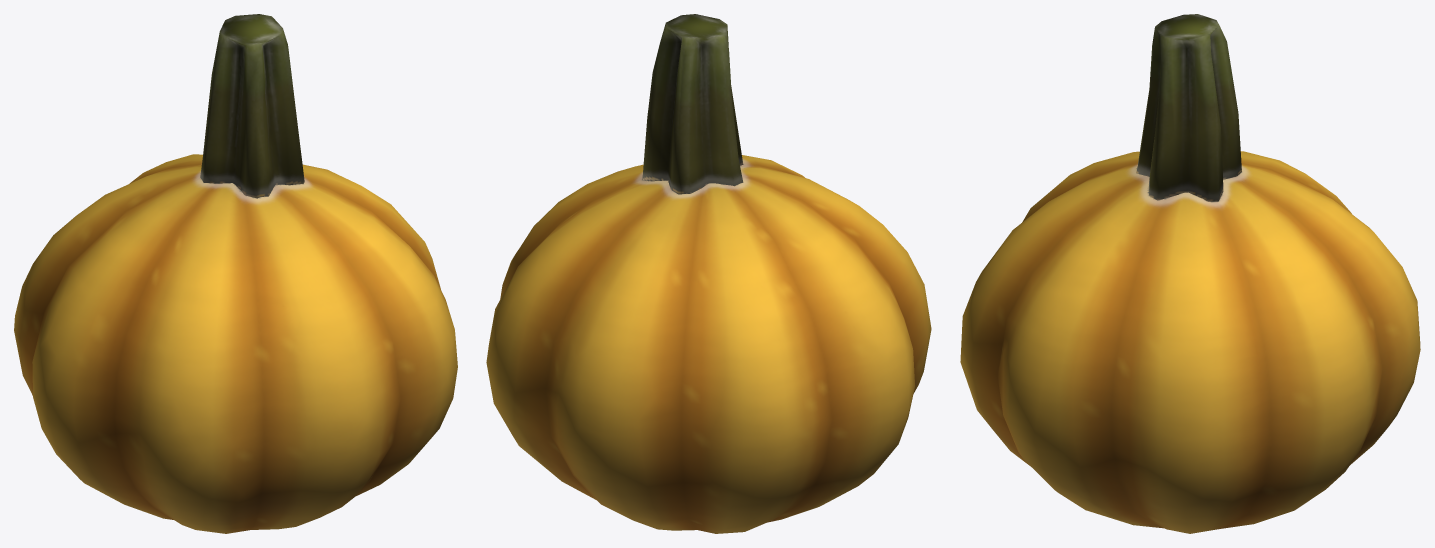
Rendered from pumpkin_small.glb.
3 renders of one model, left to right at view 1: azimuth 30°, elevation 25°; view 2: azimuth 150°, elevation 25°; view 3: azimuth 270°, elevation 25°, orthographic.
Visible parts, largest first — view 1: pumpkin_small; view 2: pumpkin_small; view 3: pumpkin_small.
Part boxes in pixels (bbox=[...]): pumpkin_small: bbox=[14, 14, 457, 533]; pumpkin_small: bbox=[486, 14, 931, 533]; pumpkin_small: bbox=[960, 14, 1420, 533].
Size of the model in its own units: 0.5707 by 0.6769 by 0.5701.
1 material, 1 textured.
